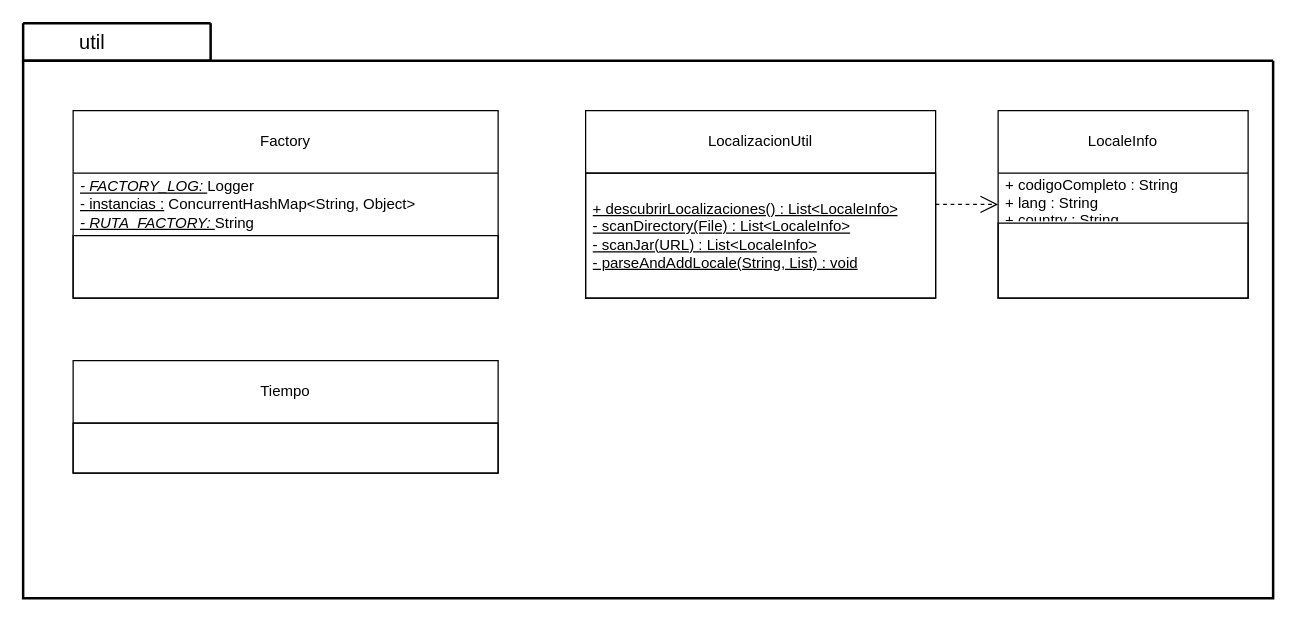
Image size: 1295x620. Some labels were removed from this diagram. Here are the shapes that lost their labels. From the top down, the box of each, then its label:
(72, 234, 498, 298): + getInstancia(String) : Object + clearInstancia(String) : void
(997, 222, 1248, 298): + getRutaBandera() : String + getNombreBaseBundle() : String
(72, 422, 498, 473): + segundosATiempo(int) : LocalTime
